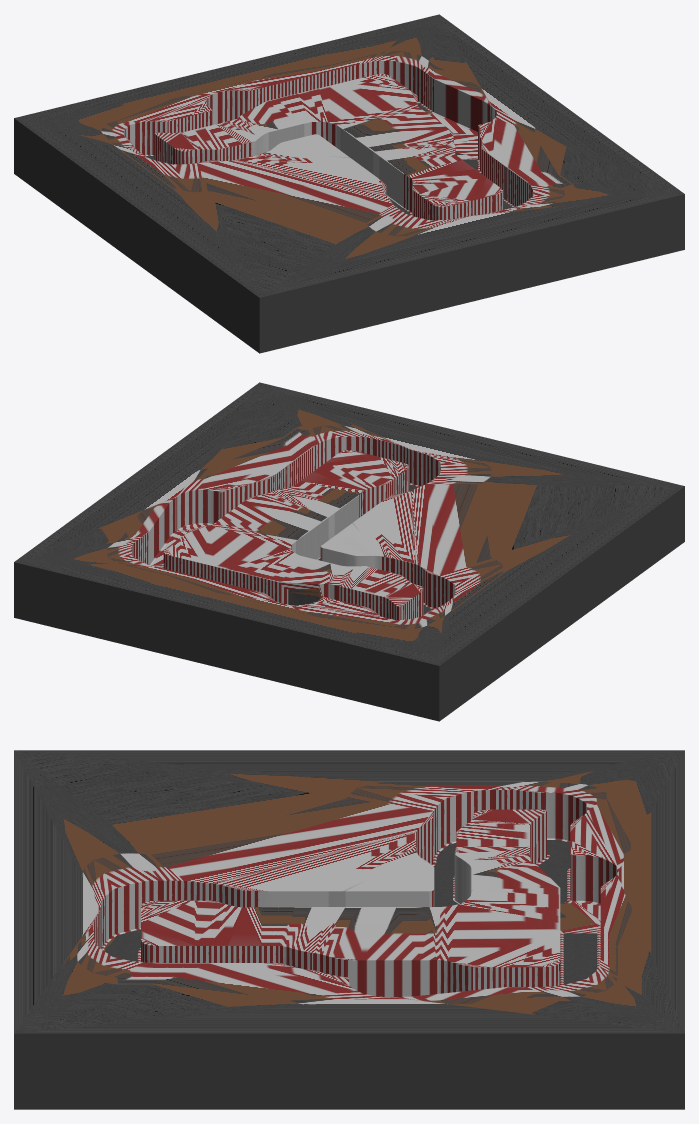
The model's file is KartTrackCollider.fbx.
3 views of the same model, one above another, from view 1: azimuth 30°, elevation 25°; view 2: azimuth 150°, elevation 25°; view 3: azimuth 270°, elevation 25° (orthographic). The views are drawn at different scales.
Visible parts, largest first — view 1: TrackMesh; view 2: TrackMesh; view 3: TrackMesh.
Part boxes in pixels (left/top/right/bottom): TrackMesh: left=14, top=14, right=684, bottom=353; TrackMesh: left=14, top=382, right=684, bottom=721; TrackMesh: left=14, top=750, right=684, bottom=1109.
Size of the model in its own units: 200 by 25 by 200.
